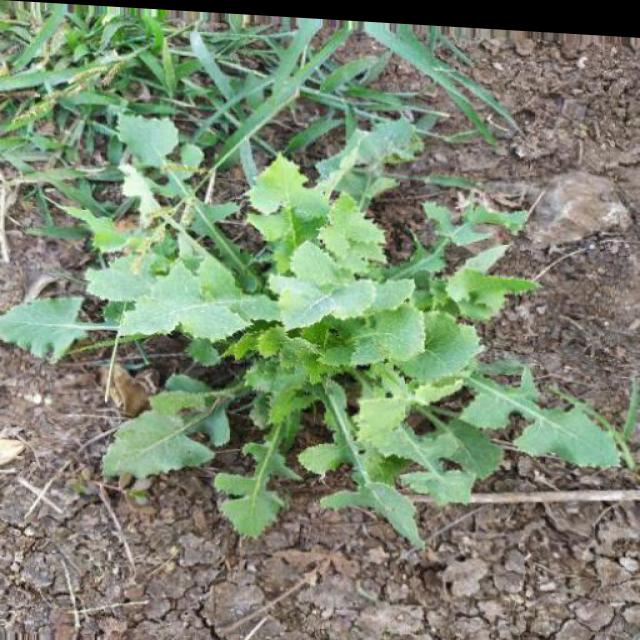weed: (1, 66, 638, 568)
